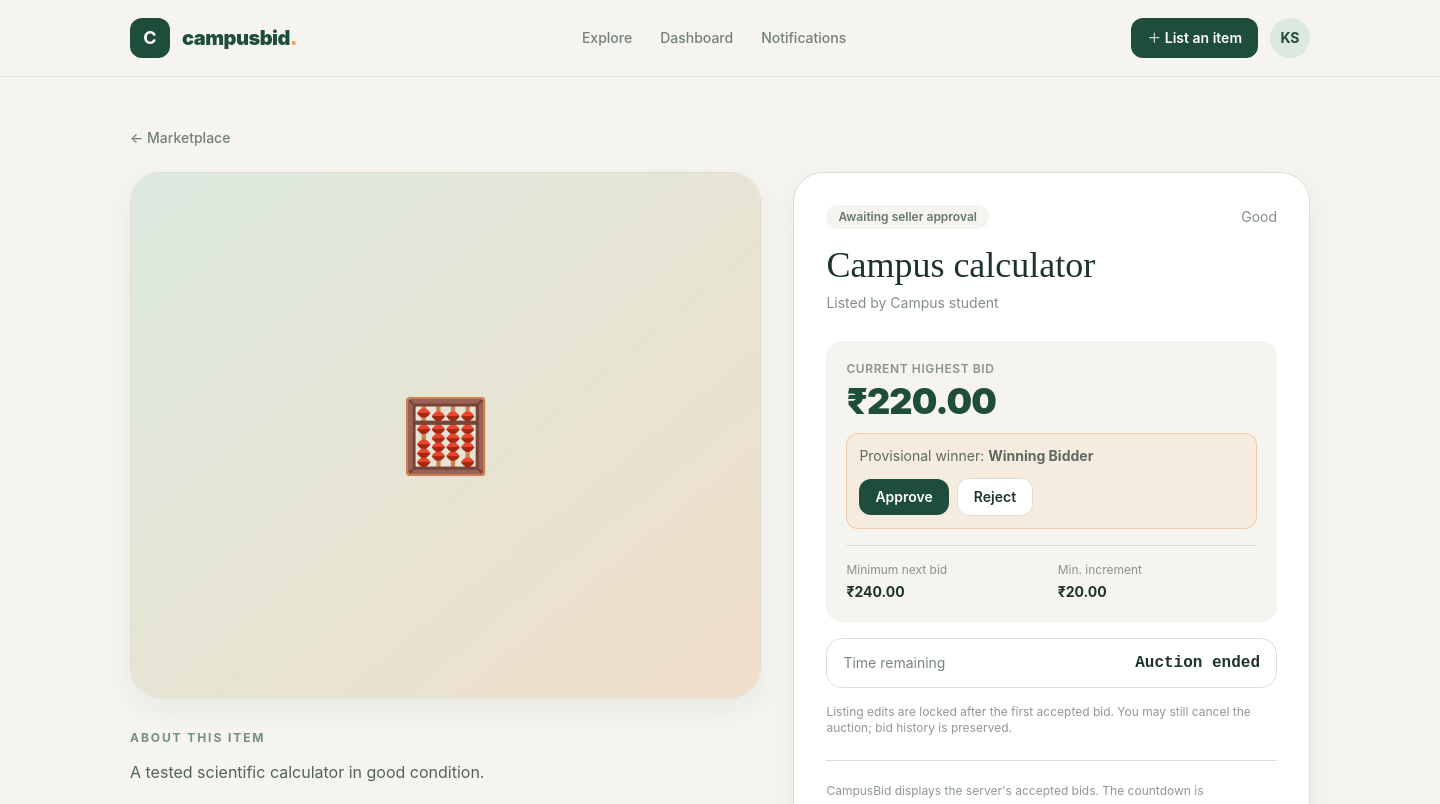
CampusBid auction status actions › persists seller rejection and hides the decision controls
The image size is (1440, 804).
Click the button "Reject" at x=995, y=497, box [957,478,1033,516]
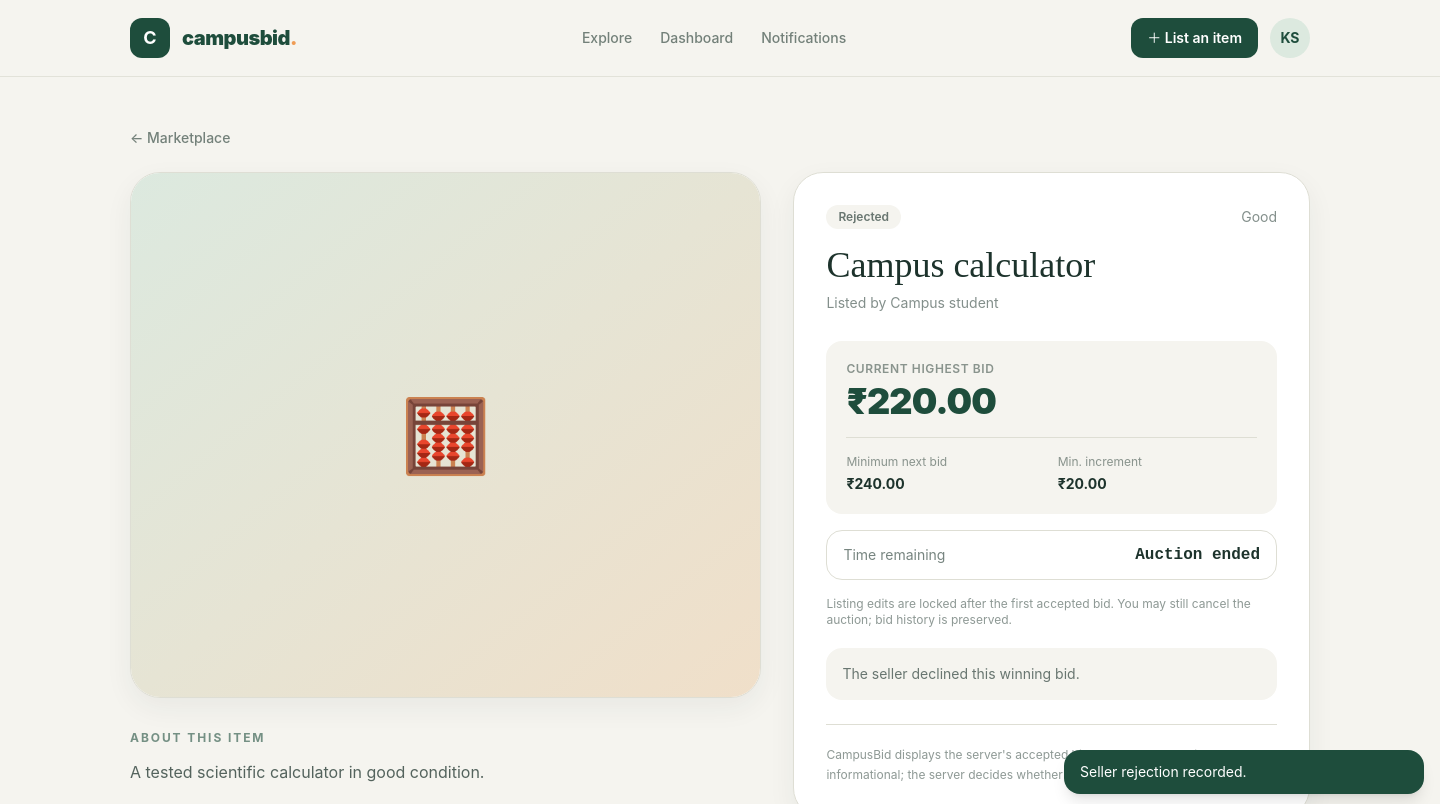
Now the text "The seller declined this winning bid." is shown, box [826,648,1277,700]
Now the button "Approve" is gone
